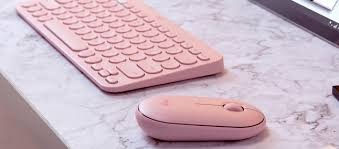keyboard: (13, 0, 234, 86)
mouse: (130, 93, 273, 143)
